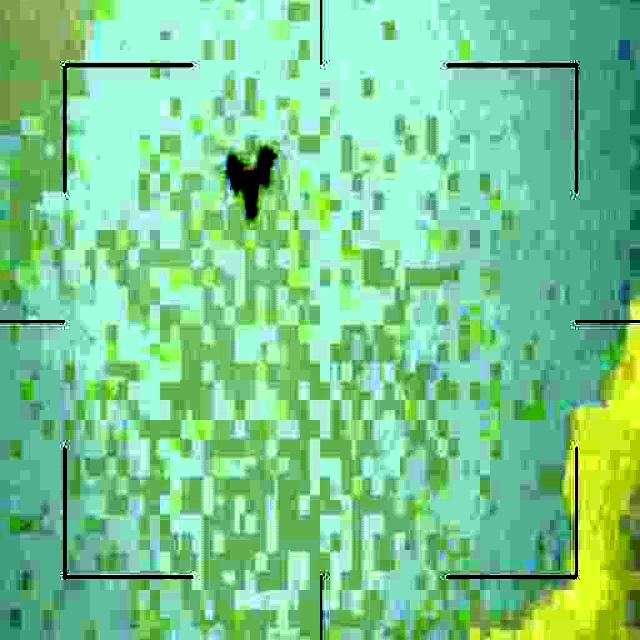bird: (221, 141, 279, 216)
